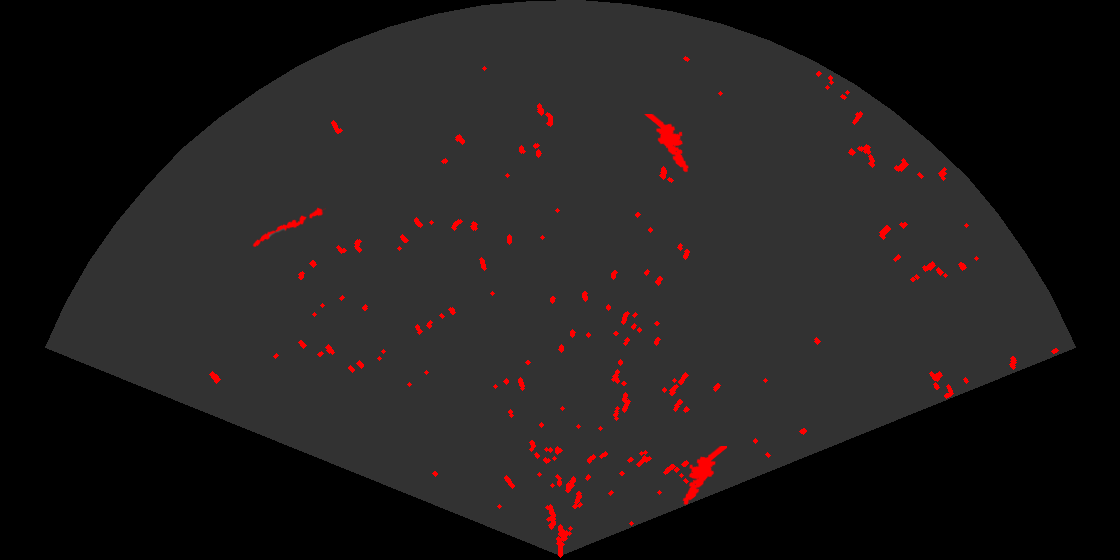chain: (251, 206, 326, 249)
frogman: (643, 114, 690, 174), (681, 446, 727, 506)
